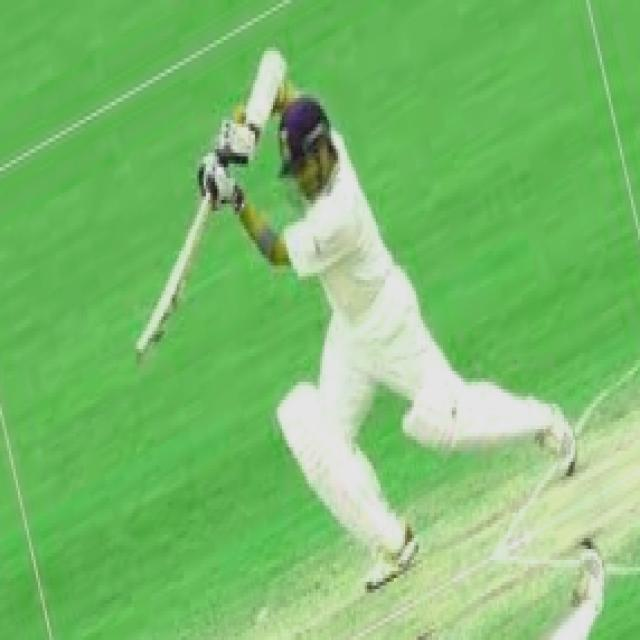toe: (128, 292, 172, 374)
